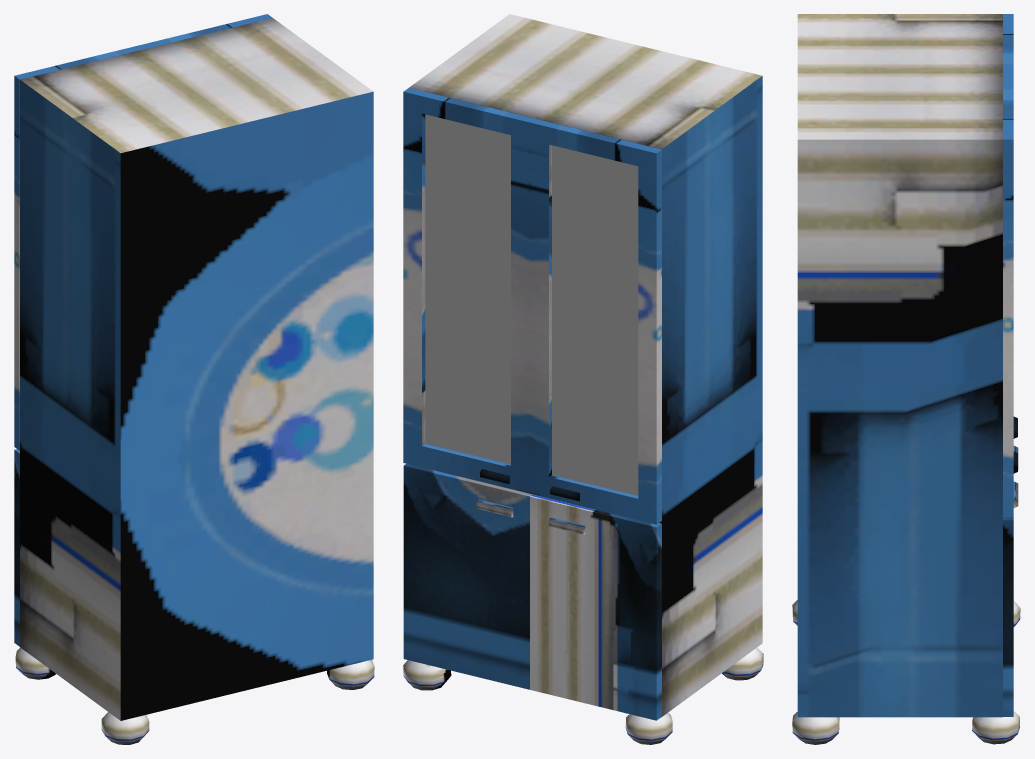
The model's file is furni_0200516.FBX.
The picture shows the model from 3 angles, left to right: view 1: azimuth 30°, elevation 25°; view 2: azimuth 150°, elevation 25°; view 3: azimuth 270°, elevation 25°; orthographic projection.
Parts seen in each view (by area): view 1: furni_0200516; view 2: furni_0200516; view 3: furni_0200516.
Boxes of the visible parts, x1,y1,x2,y2 form: furni_0200516: [14, 14, 374, 744]; furni_0200516: [403, 14, 763, 744]; furni_0200516: [792, 14, 1020, 744].
Bounding box in the file's own units: 84.47 × 180 × 61.46.
